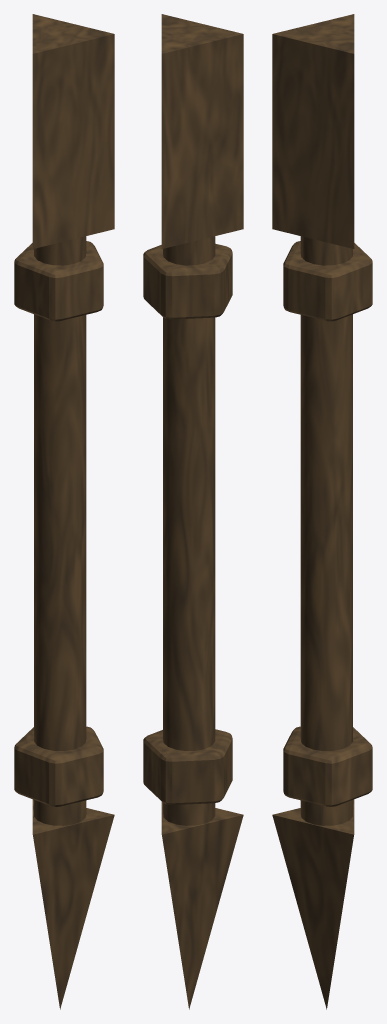
File: stylus.glb
The picture shows the model from 3 angles, left to right: view 1: azimuth 30°, elevation 25°; view 2: azimuth 150°, elevation 25°; view 3: azimuth 330°, elevation 25°; orthographic projection.
Visible parts, largest first — view 1: stylus.tip; view 2: stylus.tip; view 3: stylus.tip.
Boxes of the visible parts, <box> form: stylus.tip: <box>14,14,114,1009</box>; stylus.tip: <box>143,14,243,1009</box>; stylus.tip: <box>272,14,372,1009</box>.
Bounding box in the file's own units: 0.1268 × 1.44 × 0.1269.
1 material, 1 textured.
